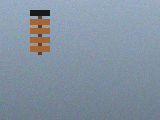defect: (30, 9, 50, 17)
insulator: (28, 8, 52, 56)
